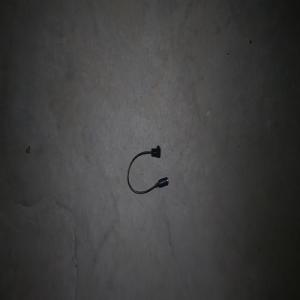Wire: (127, 145, 168, 194)
